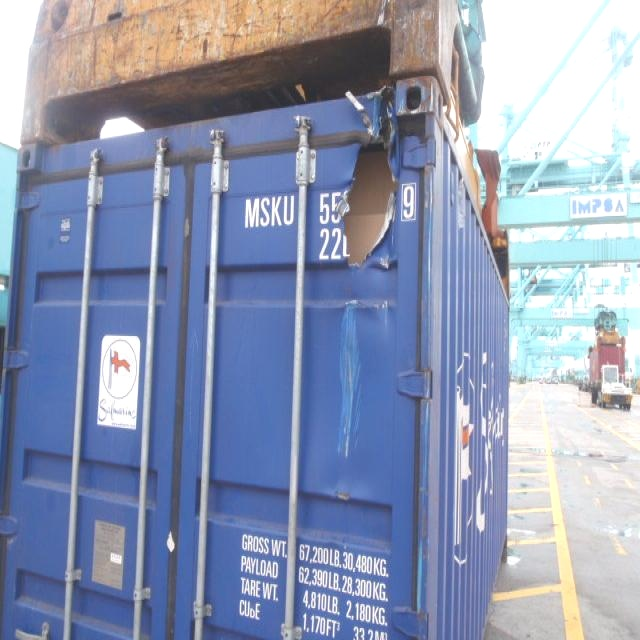Dent: (362, 252, 400, 317)
